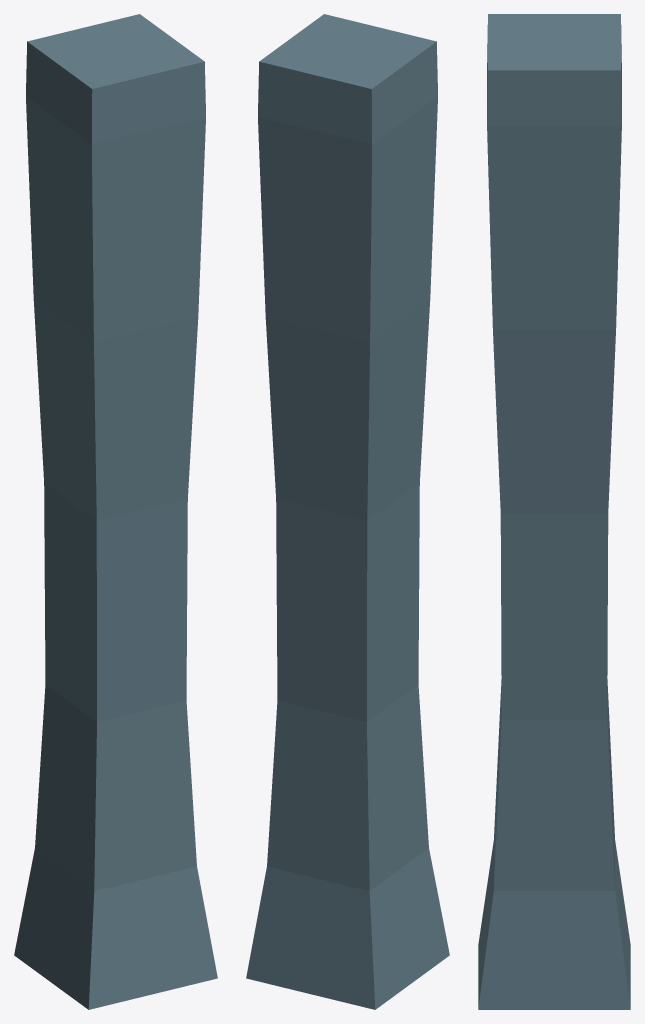
File: chinazun-far-8d215970a2.glb
3 renders of one model, left to right at view 1: azimuth 30°, elevation 25°; view 2: azimuth 150°, elevation 25°; view 3: azimuth 270°, elevation 25°, orthographic. The views are drawn at different scales.
Parts seen in each view (by area): view 1: chinazun coarse.001; view 2: chinazun coarse.001; view 3: chinazun coarse.001.
Part boxes in pixels (<box>): chinazun coarse.001: <box>14,14,217,1009</box>; chinazun coarse.001: <box>246,14,449,1009</box>; chinazun coarse.001: <box>478,14,630,1009</box>.
Size of the model in its own units: 78.01 by 528 by 78.01.
